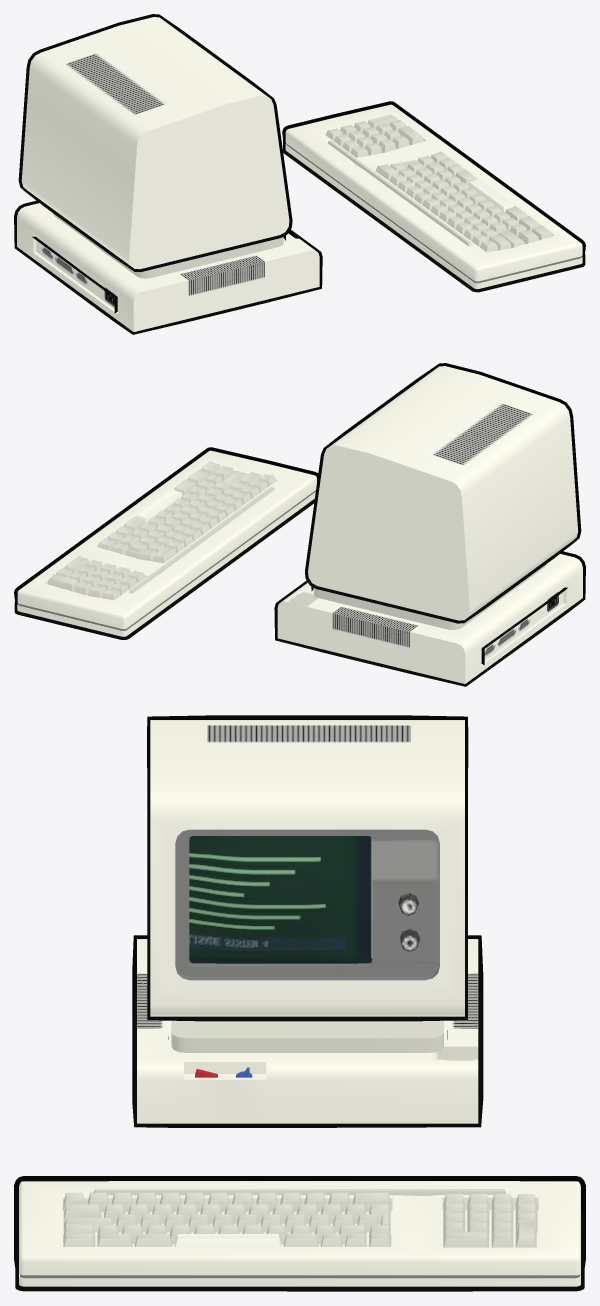
File: retro_pc_terminal.glb
The picture shows the model from 3 angles, top to bottom: view 1: azimuth 30°, elevation 25°; view 2: azimuth 150°, elevation 25°; view 3: azimuth 270°, elevation 25°; orthographic projection. The views are drawn at different scales.
Visible parts, largest first — view 1: ibm_mac_0, ibm_outline_mac_outline_0; view 2: ibm_mac_0, ibm_outline_mac_outline_0; view 3: ibm_mac_0, ibm_outline_mac_outline_0.
Boxes of the visible parts, <box> form: ibm_mac_0: <box>17,17,582,331</box>; ibm_outline_mac_outline_0: <box>14,14,585,334</box>; ibm_mac_0: <box>17,366,582,683</box>; ibm_outline_mac_outline_0: <box>14,363,585,686</box>; ibm_mac_0: <box>19,720,580,1286</box>; ibm_outline_mac_outline_0: <box>14,715,585,1291</box>.
Bounding box in the file's own units: 3.43 × 1.64 × 2.78.
Materials: 2 (1 with a texture image).
